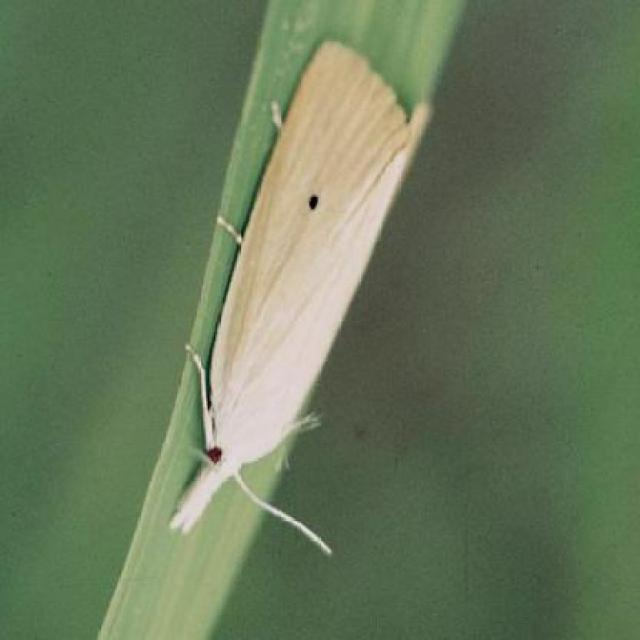stem-borer: (162, 33, 436, 544)
